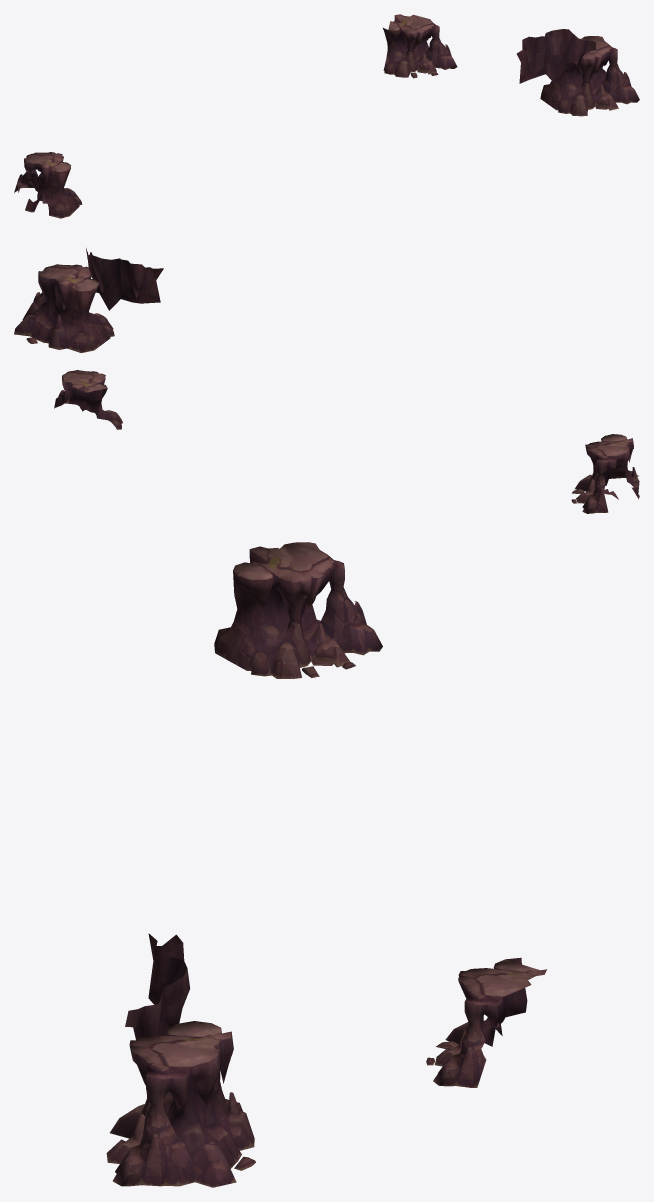
File: area7_shiqiang_01.FBX
The picture shows the model from 3 angles, top to bottom: view 1: azimuth 30°, elevation 25°; view 2: azimuth 150°, elevation 25°; view 3: azimuth 270°, elevation 25°; orthographic projection. The views are drawn at different scales.
Parts seen in each view (by area): view 1: area7_shiqiang_01; view 2: area7_shiqiang_01; view 3: area7_shiqiang_01.
Boxes of the visible parts, bbox=[...] form: area7_shiqiang_01: bbox=[14, 14, 639, 218]; area7_shiqiang_01: bbox=[14, 248, 639, 513]; area7_shiqiang_01: bbox=[106, 542, 546, 1187].
Bounding box in the file's own units: 9198 × 1162 × 3045.
